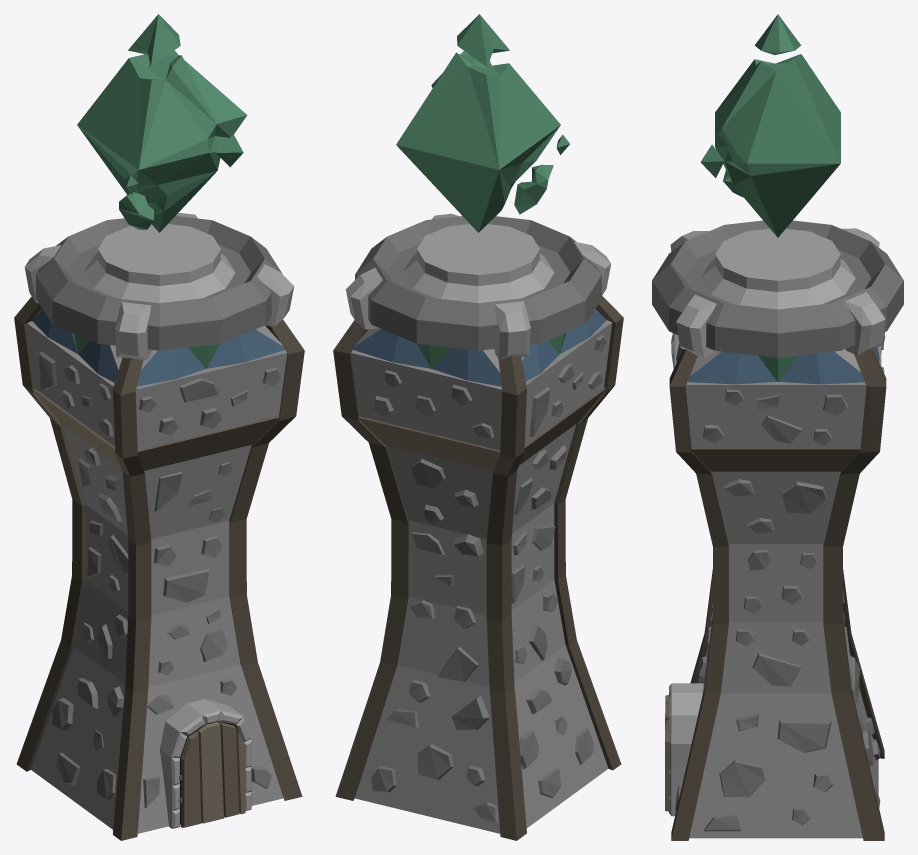
File: _Wizard_tower_LVL_1.fbx
The picture shows the model from 3 angles, left to right: view 1: azimuth 30°, elevation 25°; view 2: azimuth 150°, elevation 25°; view 3: azimuth 270°, elevation 25°; orthographic projection.
Visible parts, largest first — view 1: Wizard_tower_LVL_1; view 2: Wizard_tower_LVL_1; view 3: Wizard_tower_LVL_1.
Part boxes in pixels (bbox=[...]): Wizard_tower_LVL_1: bbox=[14, 14, 304, 840]; Wizard_tower_LVL_1: bbox=[333, 14, 623, 840]; Wizard_tower_LVL_1: bbox=[652, 14, 903, 840].
Size of the model in its own units: 489 by 1675 by 489.
